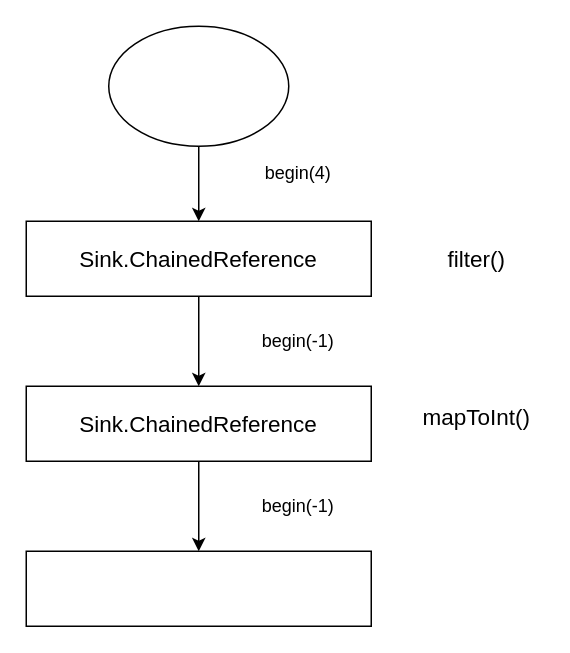
This 570x653 diagram has some shape labels left out. The centre of each missing label's shape, as x and y in pixels:
ReducingSink: point (198, 588)
Spliterator: point (198, 85)
